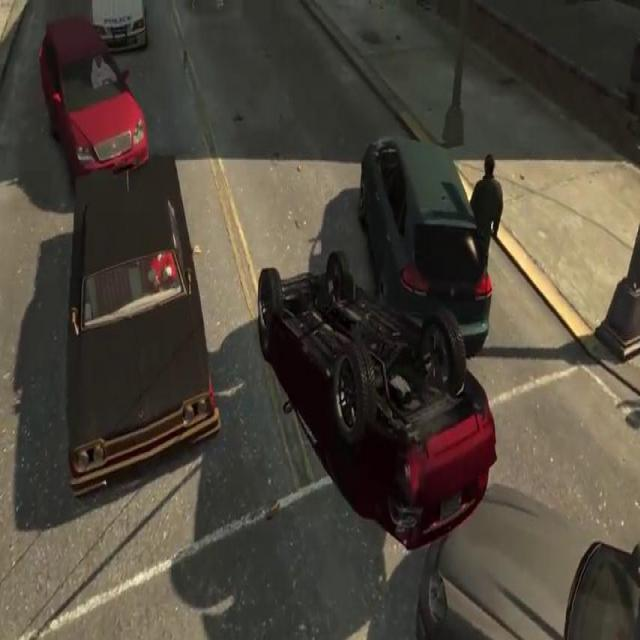accident: (256, 120, 497, 545)
